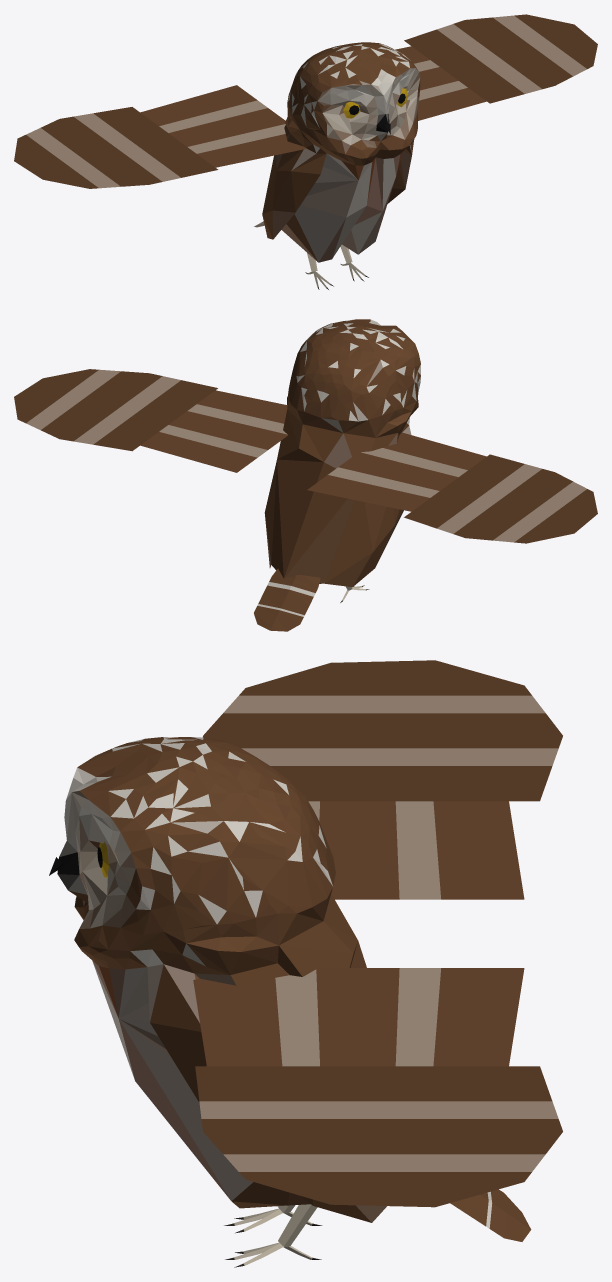
Rendered from saw_whet_owl.glb.
3 views of the same model, one above another, from view 1: azimuth 30°, elevation 25°; view 2: azimuth 150°, elevation 25°; view 3: azimuth 270°, elevation 25° (orthographic). The views are drawn at different scales.
Parts seen in each view (by area): view 1: lod0; view 2: lod0; view 3: lod0.
Part boxes in pixels (box(x1,y1,x2,y2)): lod0: box(14, 14, 597, 289); lod0: box(14, 319, 597, 631); lod0: box(49, 660, 562, 1267).
Size of what is drawn, in the model's own units: 0.48 by 0.2002 by 0.1908.
